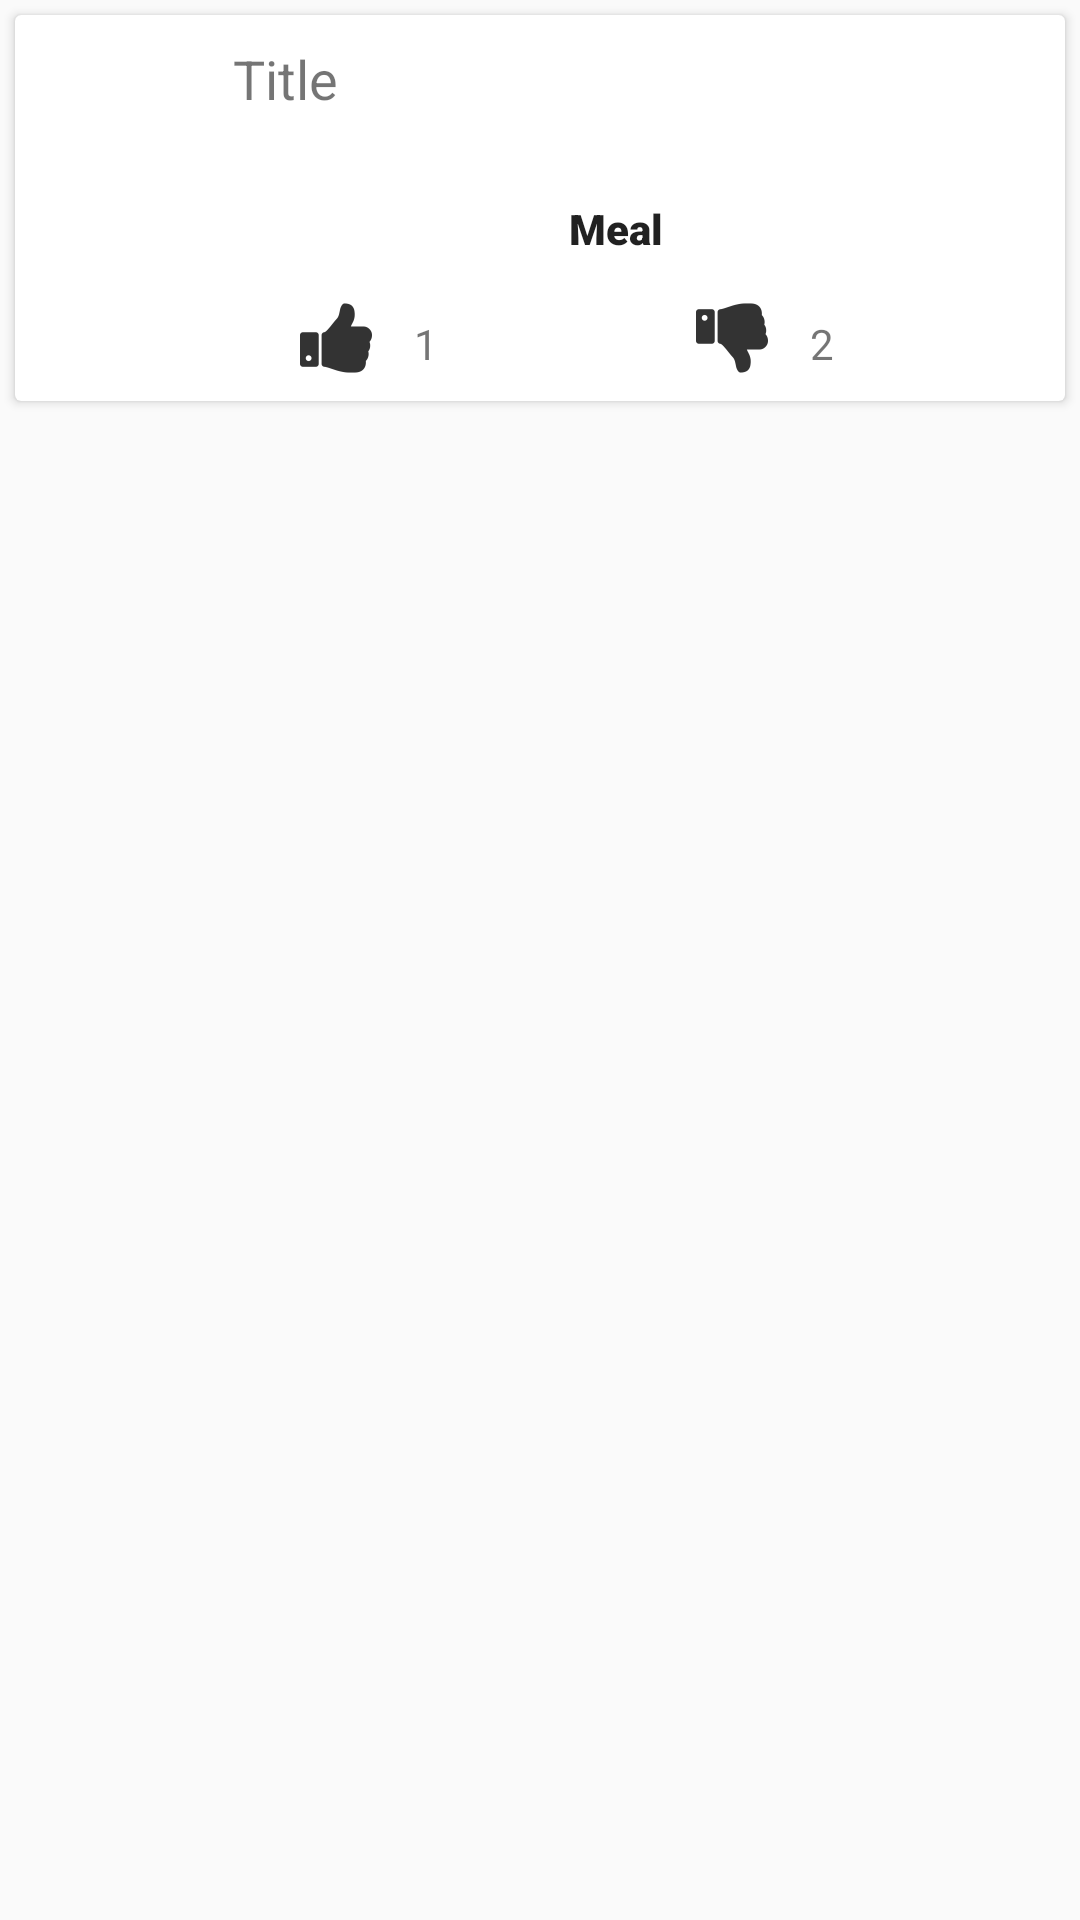

Icon click points for this 1080 × 1920 phone screenshot, format (x=x, y=y):
thumbs down: (x=732, y=338)
thumbs up: (x=336, y=338)
